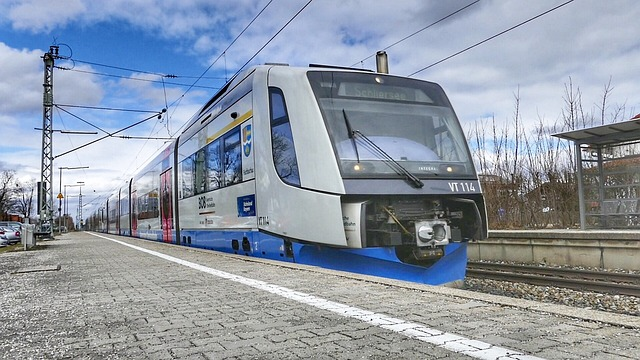train1: (94, 59, 489, 281)
